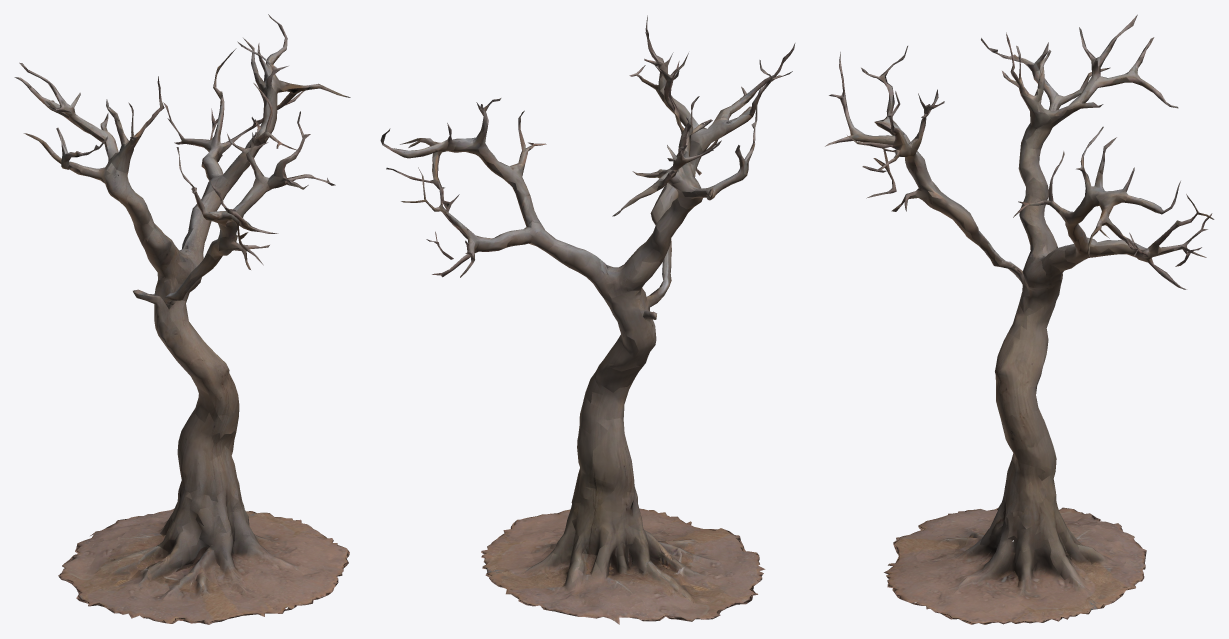
File: tree_dead__desert-dead-tree.glb
3 views of the same model, side by side, from view 1: azimuth 30°, elevation 25°; view 2: azimuth 150°, elevation 25°; view 3: azimuth 270°, elevation 25° (orthographic).
Size of the model in its own units: 1.29 by 1.98 by 1.37.
Materials: 1 (1 with a texture image).
